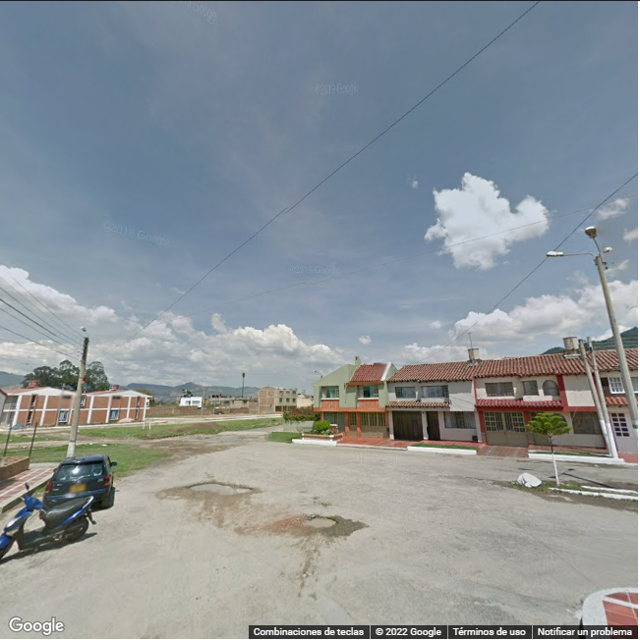D10: (460, 570, 577, 611)
D40: (185, 477, 256, 499), (293, 511, 346, 531)
